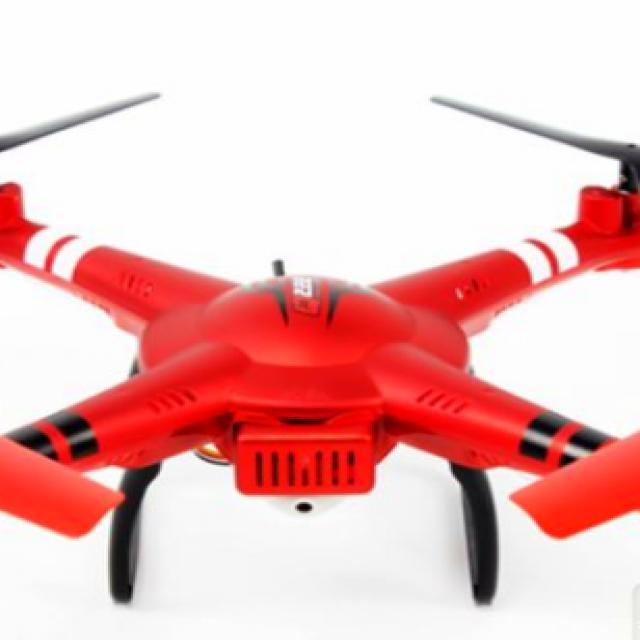drone: (0, 94, 640, 576)
